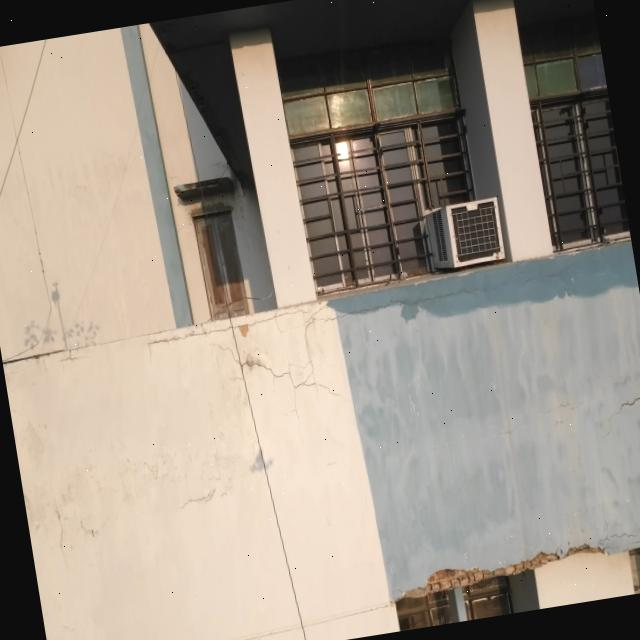Crack: (328, 253, 638, 322), (233, 303, 351, 419), (139, 318, 246, 364), (54, 496, 72, 570), (179, 488, 215, 508), (610, 398, 640, 419), (58, 348, 88, 360)
